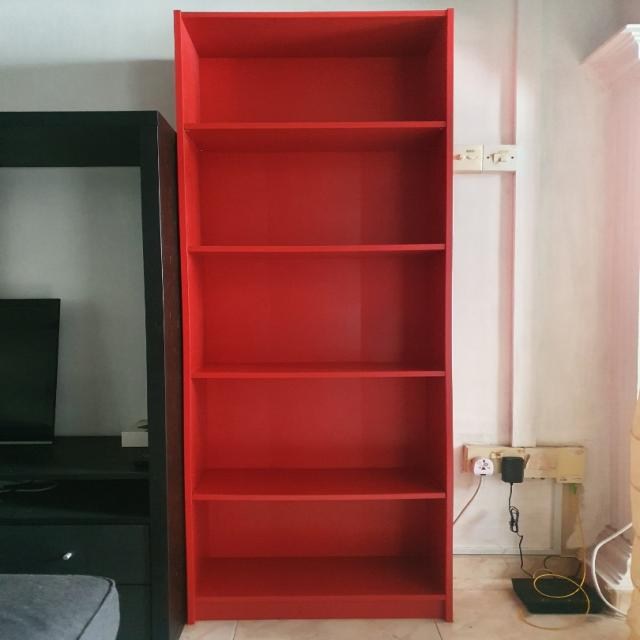Shelf: (169, 3, 464, 629)
